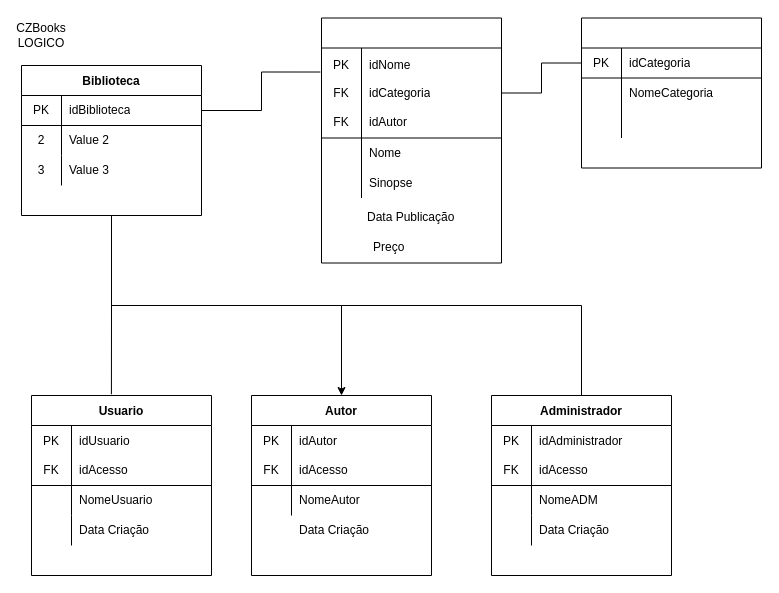
This 779x593 diagram has some shape labels left out. Here are the shapes that lost their labels. From the top down, the box of each, then its label:
(580, 17, 762, 168): Categorias
(320, 17, 502, 263): LIVROS
